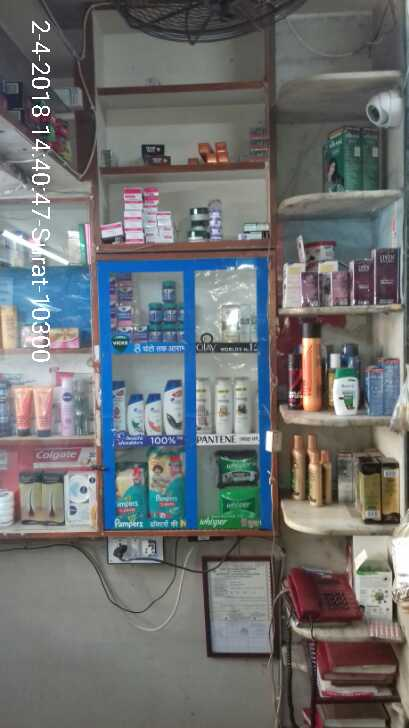vicks: (117, 301, 136, 322), (148, 303, 163, 326), (120, 281, 136, 301), (163, 303, 176, 326), (176, 321, 189, 342), (163, 280, 176, 301), (118, 328, 133, 345), (161, 325, 175, 342), (176, 303, 189, 321), (136, 326, 149, 343), (149, 325, 161, 343)
